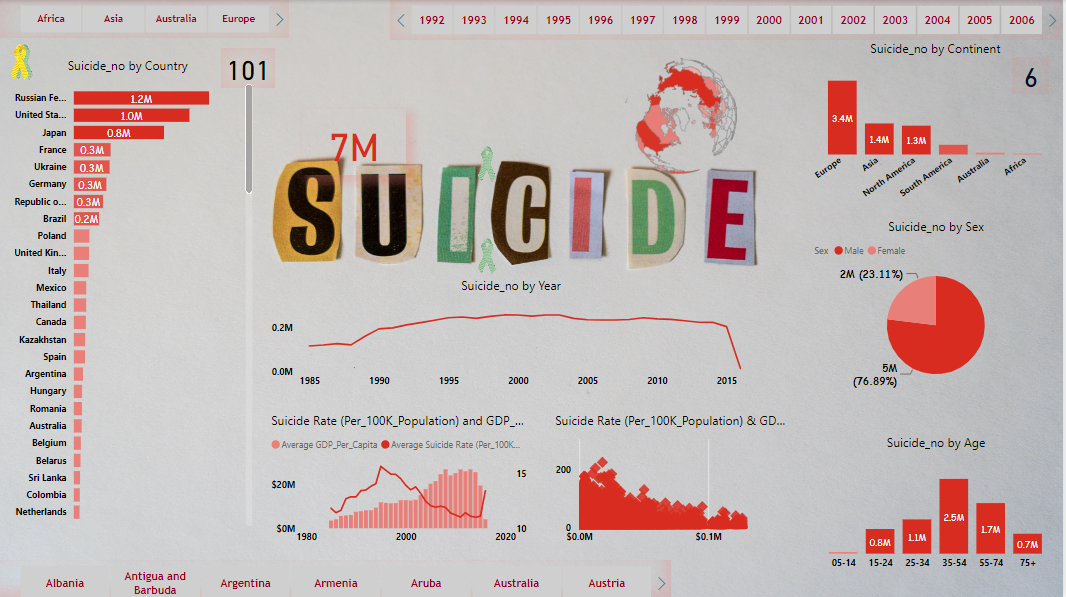

The page's visual inventory and layout, read from the dashboard file:
{"tool":"powerbi","page":{"name":"World Wide Suicide","canvas":[1280,720],"ordinal":0},"visuals":[{"type":"columnChart","fields":{"Category":["World Suicide.Continent"],"Y":["Sum(World Suicide.Suicides_No)"]},"box":[975.8,48.2,304.2,199.6],"z":0},{"type":"image","box":[0,48.6,59.1,52.6],"z":0,"group":"g1"},{"type":"image","box":[0,48.6,49.9,52.6],"z":1000,"group":"g1"},{"type":"pieChart","fields":{"Category":["AnalysisDataTable.Sex"],"Y":["Sum(AnalysisDataTable.Suicides_No)"]},"box":[976.5,262.5,303.4,210.7],"z":1000},{"type":"slicer","fields":{"Values":["AnalysisDataTable.Year.Variation.Date Hierarchy.Year"]},"box":[470.8,0,809.1,48.2],"z":2000},{"type":"barChart","fields":{"Category":["AnalysisDataTable.Country"],"Y":["Sum(AnalysisDataTable.Suicides_No)"]},"box":[0,68.8,309.7,569.8],"z":3000},{"type":"card","fields":{"Values":["Sum(AnalysisDataTable.Suicides_No)"]},"box":[364.7,130.8,125.2,79.8],"z":4000},{"type":"shapeMap","fields":{"Value":["Sum(AnalysisDataTable.Suicides_No)"],"Category":["World Suicide.Alpha-2 code"]},"box":[726,57.8,184.2,163.7],"z":5000},{"type":"columnChart","fields":{"Category":["World Suicide.Age"],"Y":["Sum(World Suicide.Suicides_No)"]},"box":[976.5,522.5,303.4,173.4],"z":6000},{"type":"card","fields":{"Values":["Count(World Suicide.Country)"]},"box":[267.3,57.8,65,48.2],"z":7000},{"type":"card","fields":{"Values":["Count(World Suicide.Continent)"]},"box":[1219.4,68.8,45.4,45.4],"z":8000},{"type":"lineChart","title":"Suicide_no by Year","fields":{"Category":["World Suicide.Year.Variation.Date Hierarchy.Year"],"Y":["Sum(World Suicide.Suicide_no)"]},"box":[322.7,333.5,587.6,143.3],"z":9000},{"type":"slicer","fields":{"Values":["World Suicide.Country"]},"box":[0,674.4,809.3,45.4],"z":10000},{"type":"scatterChart","title":"Suicide Rate (Per_100K_Population) & GDP_Per_Capita","fields":{"X":["World Suicide.GDP_Per_Capita"],"Y":["World Suicide.Suicide Rate (Per_100K_Population)"]},"box":[664.6,496.1,287.8,168.6],"z":11000},{"type":"slicer","fields":{"Values":["World Suicide.Continent"]},"box":[0,0,349.2,45.8],"z":12000},{"type":"lineStackedColumnComboChart","title":"Suicide Rate (Per_100K_Population) and GDP_Per_Capita by Year","fields":{"Category":["World Suicide.Year.Variation.Date Hierarchy.Year","World Suicide.Year.Variation.Date Hierarchy.Month"],"Y2":["Avg(World Suicide.Suicide Rate (Per_100K_Population))"],"Y":["Sum(World Suicide.GDP_Per_Capita)"]},"box":[322.7,496.1,317.9,168.6],"z":13000},{"type":"image","box":[557.1,170.8,59.1,52.6],"z":14000},{"type":"image","box":[557.1,281.2,59.1,52.6],"z":15000},{"type":"group","id":"g1","title":"Group 1","box":[0,48.6,59.1,52.6],"z":16000}]}

Visuals, with their boxes in screenshot pixels (x1, y1, x2, y2), scaled from the page's 1280x720 canvas onto the 1066x597 screenshot:
columnChart - World Suicide.Continent x Sum(World Suicide.Suicides_No): bbox=[813, 40, 1065, 205]
image: bbox=[0, 40, 49, 84]
image: bbox=[0, 40, 42, 84]
pieChart - AnalysisDataTable.Sex x Sum(AnalysisDataTable.Suicides_No): bbox=[813, 218, 1065, 392]
slicer - AnalysisDataTable.Year.Variation.Date Hierarchy.Year: bbox=[392, 0, 1065, 40]
barChart - AnalysisDataTable.Country x Sum(AnalysisDataTable.Suicides_No): bbox=[0, 57, 258, 530]
card - Sum(AnalysisDataTable.Suicides_No): bbox=[304, 108, 408, 175]
shapeMap - Sum(AnalysisDataTable.Suicides_No) x World Suicide.Alpha-2 code: bbox=[605, 48, 758, 184]
columnChart - World Suicide.Age x Sum(World Suicide.Suicides_No): bbox=[813, 433, 1065, 577]
card - Count(World Suicide.Country): bbox=[223, 48, 277, 88]
card - Count(World Suicide.Continent): bbox=[1016, 57, 1053, 95]
"Suicide_no by Year" lineChart: bbox=[269, 277, 758, 395]
slicer - World Suicide.Country: bbox=[0, 559, 674, 596]
"Suicide Rate (Per_100K_Population) & GDP_Per_Capita" scatterChart: bbox=[553, 411, 793, 551]
slicer - World Suicide.Continent: bbox=[0, 0, 291, 38]
"Suicide Rate (Per_100K_Population) and GDP_Per_Capita by Year" lineStackedColumnComboChart: bbox=[269, 411, 533, 551]
image: bbox=[464, 142, 513, 185]
image: bbox=[464, 233, 513, 277]
"Group 1" group: bbox=[0, 40, 49, 84]
